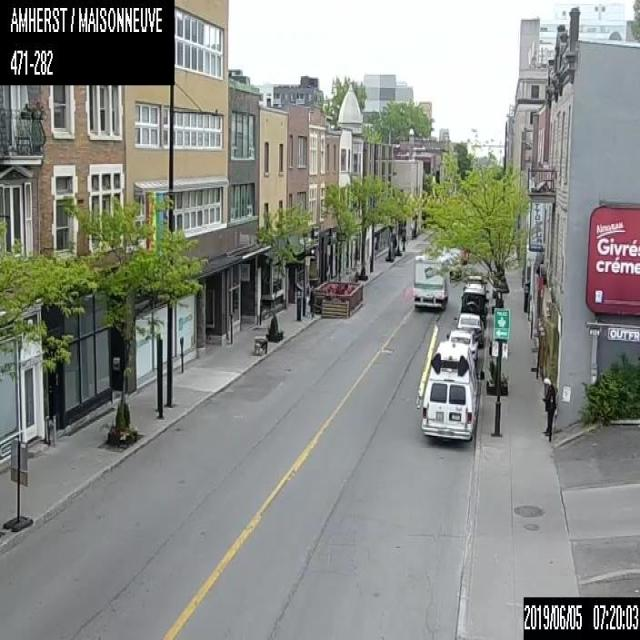construction: (2, 438, 34, 530)
pedestrian: (539, 375, 555, 437)
vehicle: (415, 320, 484, 440), (413, 252, 448, 309), (445, 328, 478, 364), (461, 285, 488, 327), (453, 311, 484, 347), (462, 274, 487, 288)
